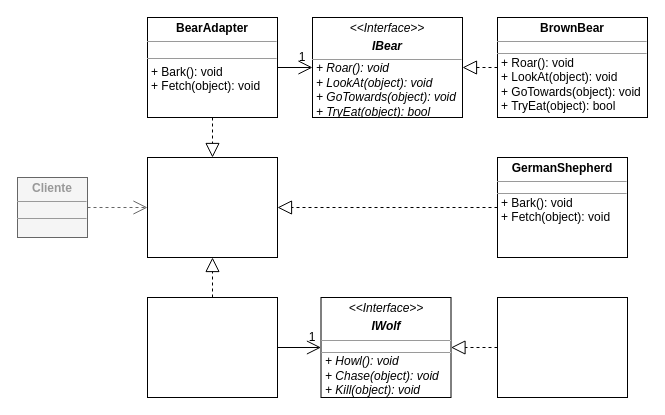
This 665x415 diagram has some shape labels left out. The centre of each missing label's shape, as x and y in pixels:
<<Interface>> IDog + Bark(): void + Fetch(object): void: point 212,207
GrayWolf + Howl(): void + Chase(object): void + Kill(object): void: point 562,347
WolfAdapter + Bark(): void + Fetch(object): void: point 212,347
